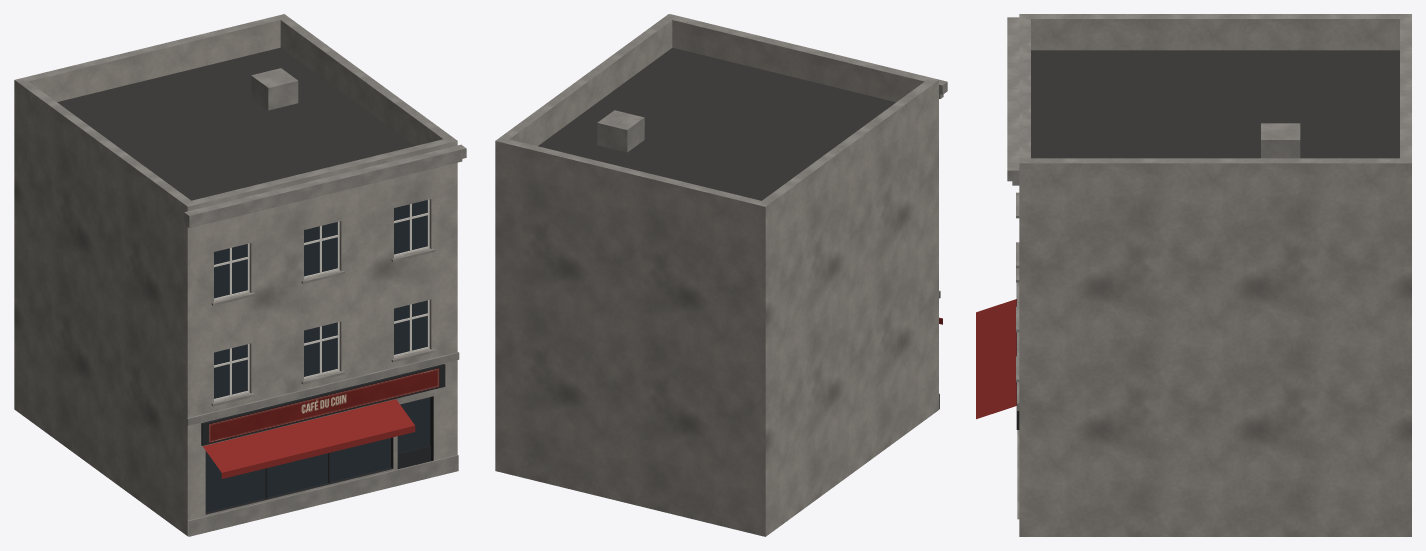
File: Bld_Cafe.fbx
3 views of the same model, side by side, from view 1: azimuth 30°, elevation 25°; view 2: azimuth 150°, elevation 25°; view 3: azimuth 270°, elevation 25° (orthographic). The views are drawn at different scales.
Visible parts, largest first — view 1: Bld_Cafe; view 2: Bld_Cafe; view 3: Bld_Cafe.
Part boxes in pixels (x1=…): Bld_Cafe: x1=14, y1=14, x2=466, y2=536; Bld_Cafe: x1=495, y1=14, x2=947, y2=536; Bld_Cafe: x1=976, y1=14, x2=1411, y2=536.
Size of the model in its own units: 9.24 by 10.5 by 11.1.
